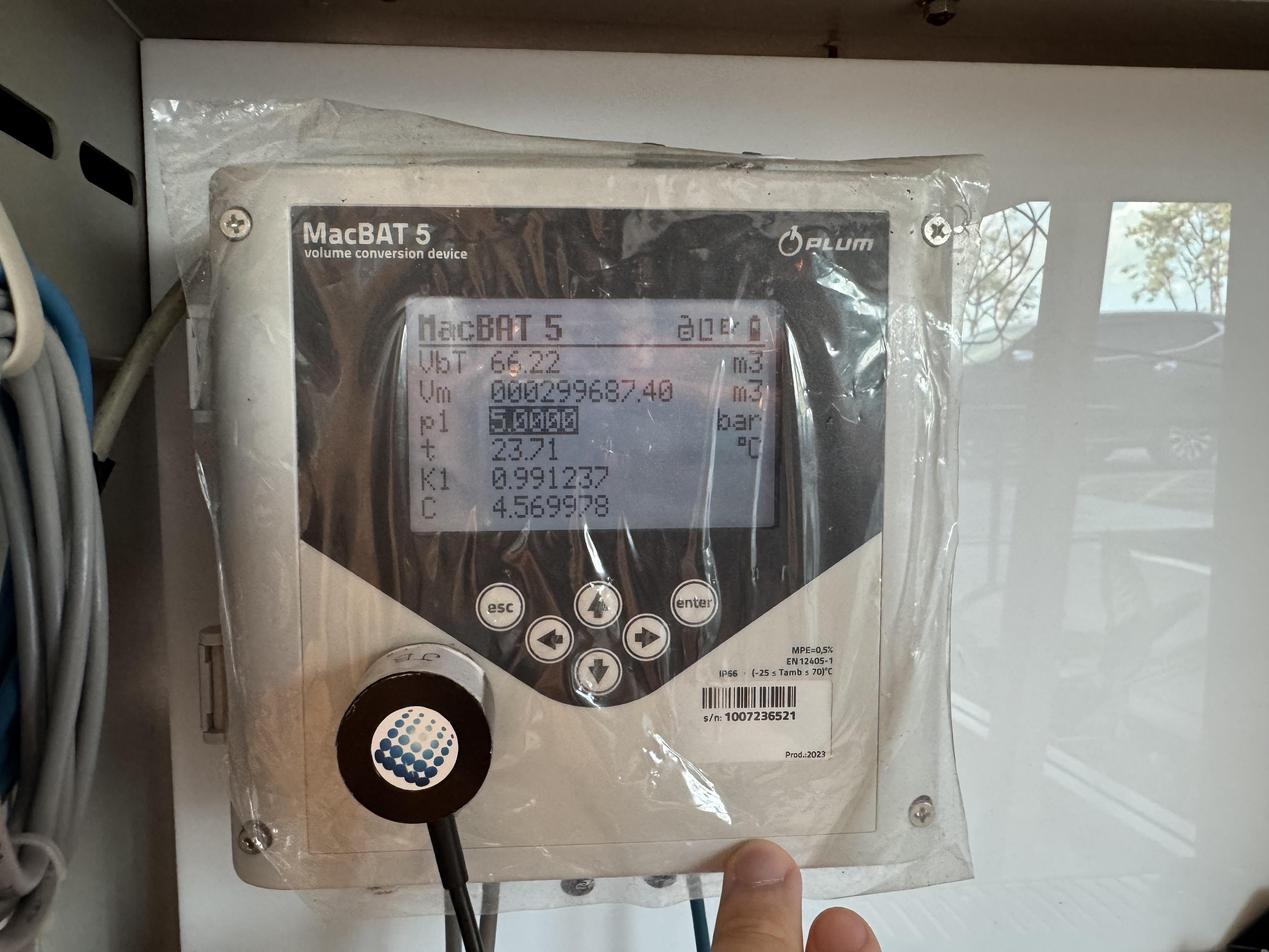digital_screen: (407, 295, 780, 532)
